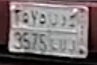3: (13, 5, 23, 50)
5: (23, 12, 31, 50)
7: (39, 14, 48, 52), (31, 11, 39, 52)
J: (69, 15, 78, 53)
L: (49, 13, 59, 52)
U: (59, 15, 69, 52)
